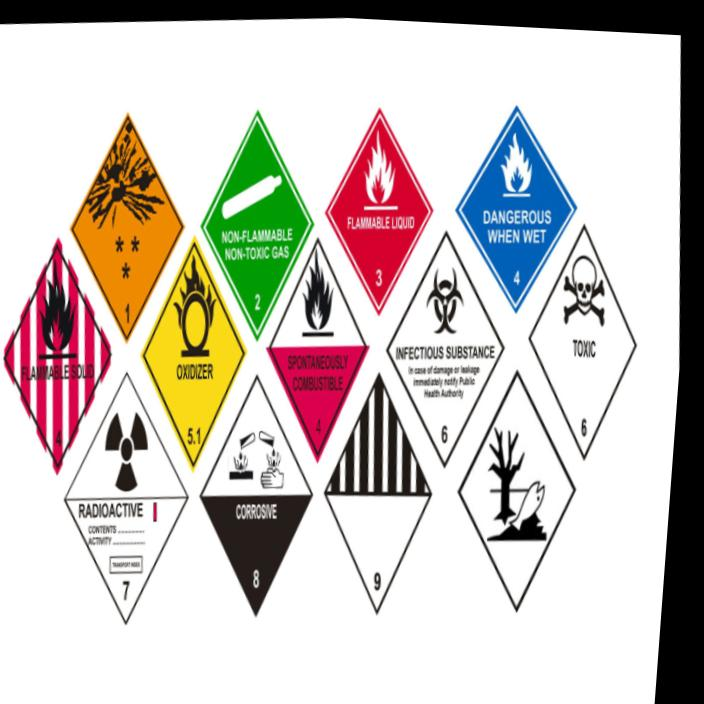bathroom sign: (71, 113, 182, 340)
building map: (202, 111, 312, 339)
can and bottle trash cans: (325, 109, 431, 313)
chair: (3, 239, 110, 471)
charging station: (267, 238, 368, 460)
clock: (457, 106, 575, 311)
defibrillator: (142, 239, 244, 467)
door: (529, 227, 634, 457)
doors: (388, 232, 502, 465)
doorway: (65, 373, 187, 622)
elevator buttons: (200, 376, 311, 614)
elevator doors: (325, 374, 430, 610)
